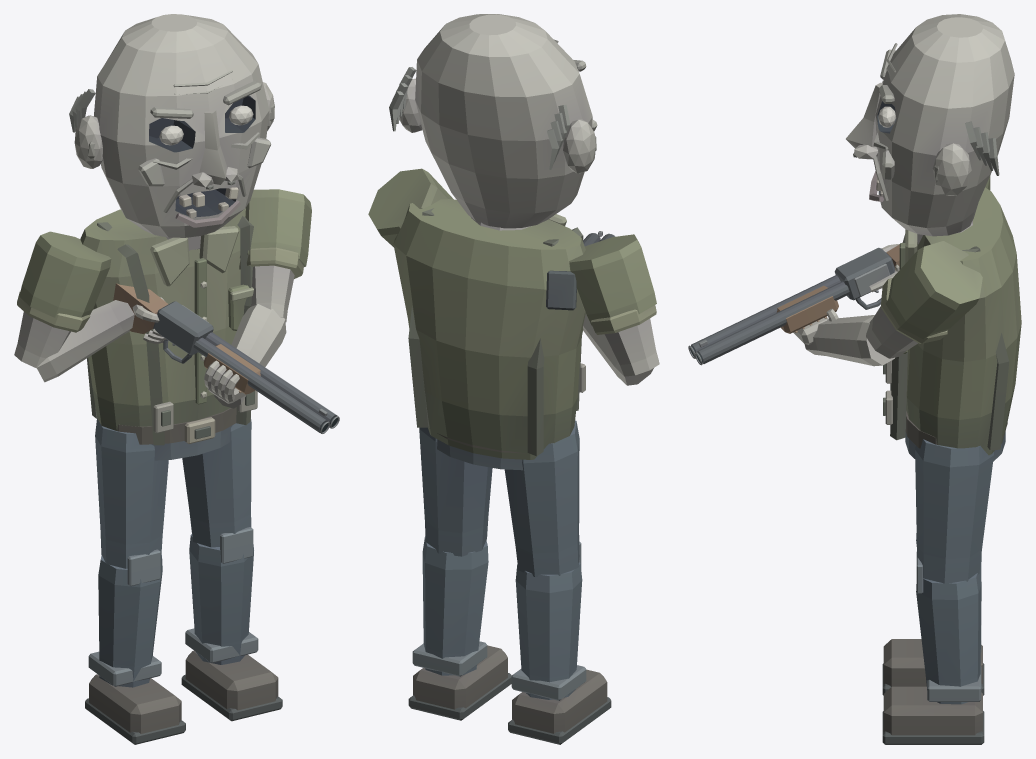
The model's file is Grandfather.glb.
3 views of the same model, side by side, from view 1: azimuth 30°, elevation 25°; view 2: azimuth 150°, elevation 25°; view 3: azimuth 270°, elevation 25° (orthographic). The views are drawn at different scales.
Parts seen in each view (by area): view 1: Head, Body, LegR, LegL, ArmR, ArmL; view 2: Body, Head, LegR, LegL, ArmR, ArmL; view 3: Body, Head, LegL, ArmL, LegR.
Boxes of the visible parts, box(x1,y1,x2,y2) form: Head: box(69, 14, 274, 237); Body: box(80, 208, 339, 460); LegR: box(85, 418, 185, 744); LegL: box(181, 417, 282, 721); ArmR: box(14, 231, 166, 382); ArmL: box(204, 189, 311, 408); Body: box(393, 199, 614, 470); Head: box(389, 14, 597, 228); LegR: box(504, 420, 611, 744); LegL: box(408, 427, 511, 720); ArmR: box(569, 234, 659, 385); ArmL: box(368, 168, 453, 247); Body: box(688, 187, 1021, 461); Head: box(846, 14, 1014, 236); LegL: box(882, 439, 993, 744); ArmL: box(793, 241, 982, 366); LegR: box(882, 533, 984, 695).
Bounding box in the file's own units: 2.69 × 6.16 × 2.72.
